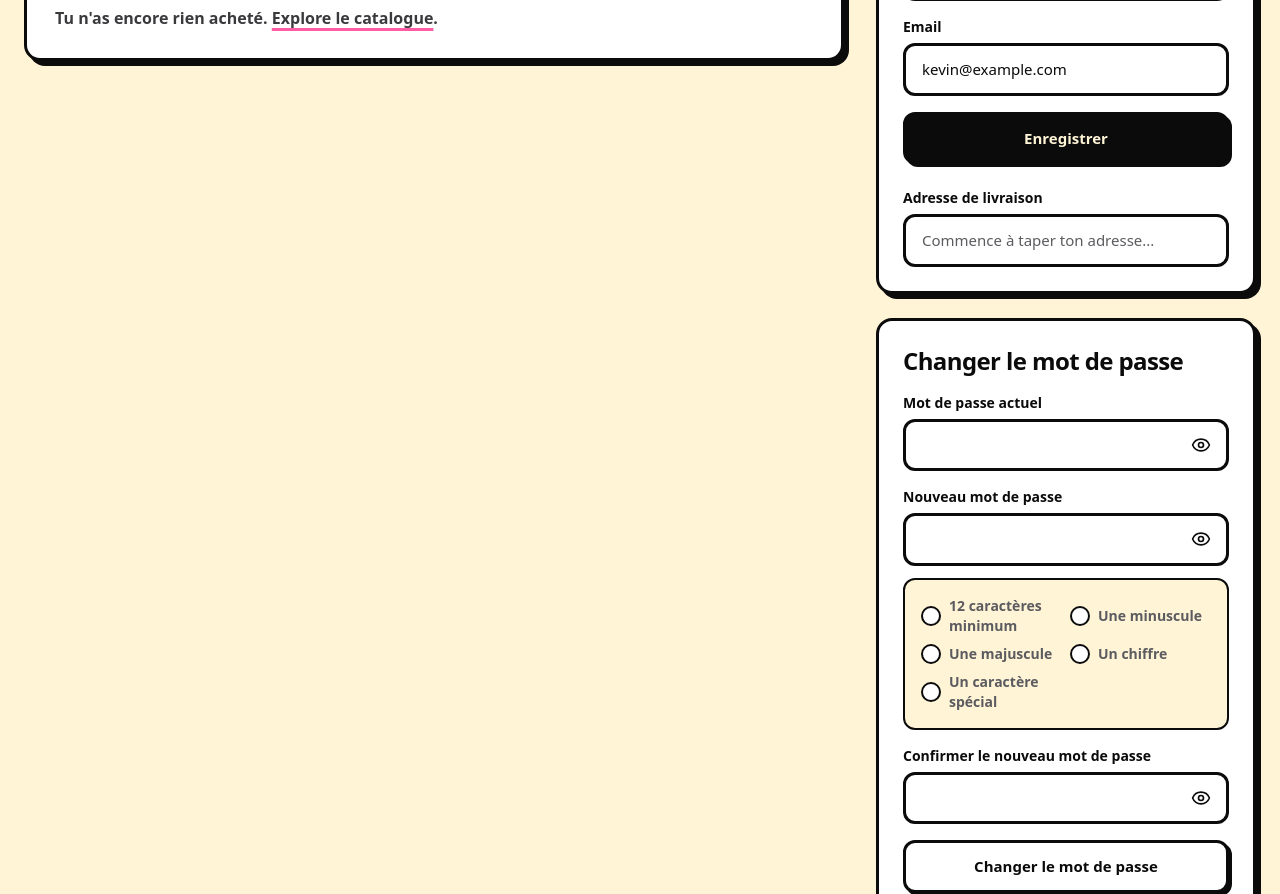
Scenario: Account › changes the password through the form
This screenshot has width=1280, height=894.
(page scrolled)
Type "Azerty-2026!x" into the password field labelled "Mot de passe actuel" at (1066, 445), box [903,418,1229,471]
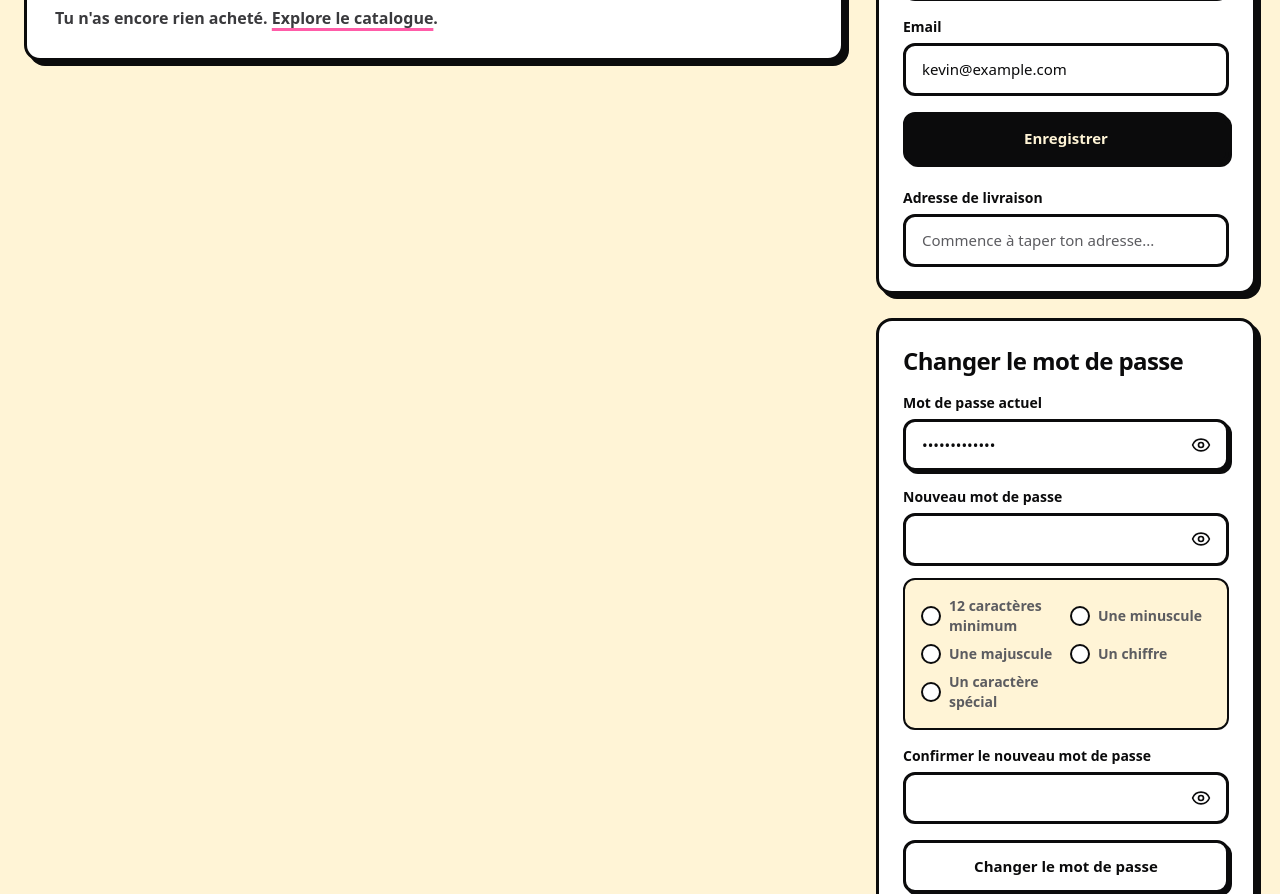
Type "NouveauMdp-456!" into the password field labelled "Nouveau mot de passe" at (1066, 539), box [903,513,1229,566]
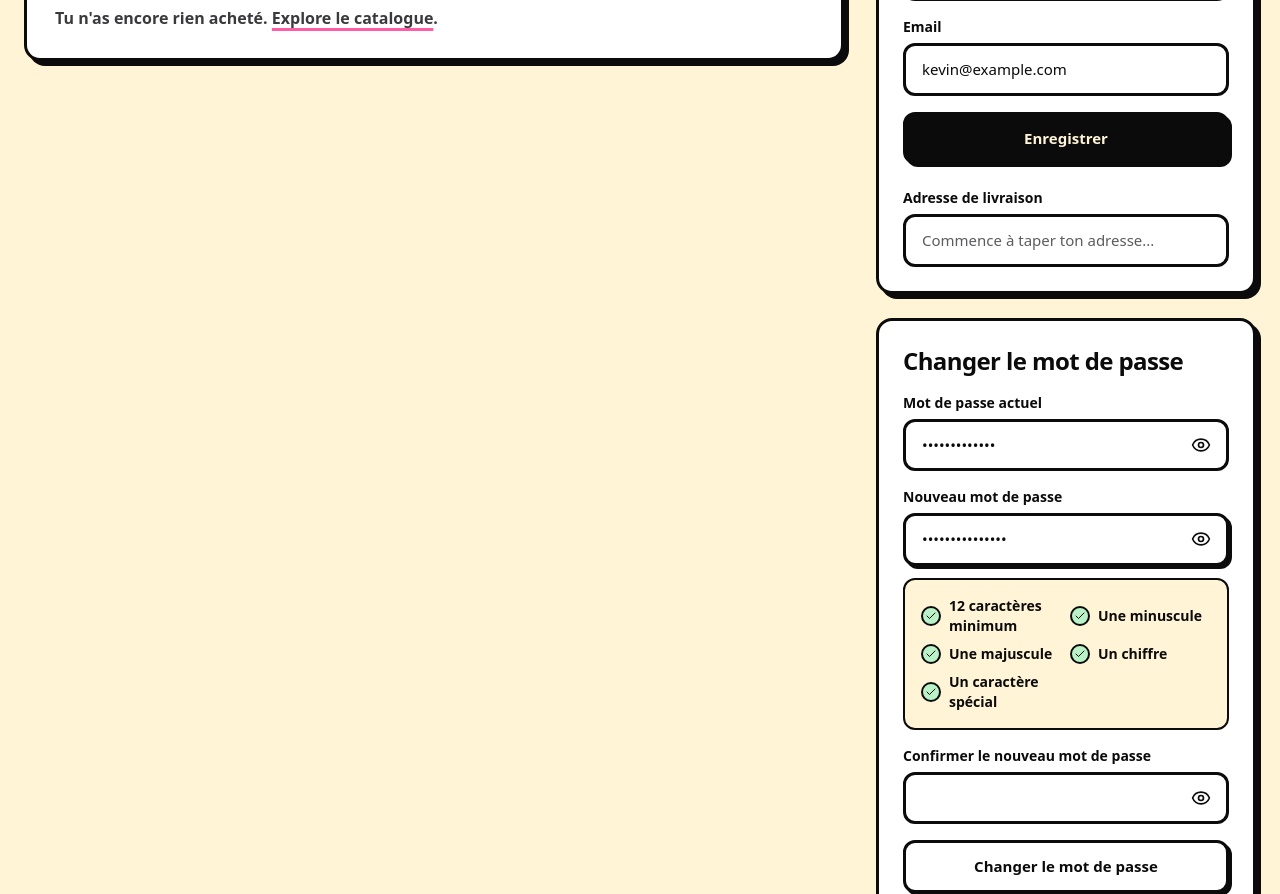
Type "NouveauMdp-456!" into the password field labelled "Confirmer le nouveau mot de passe" at (1066, 798), box [903,772,1229,824]
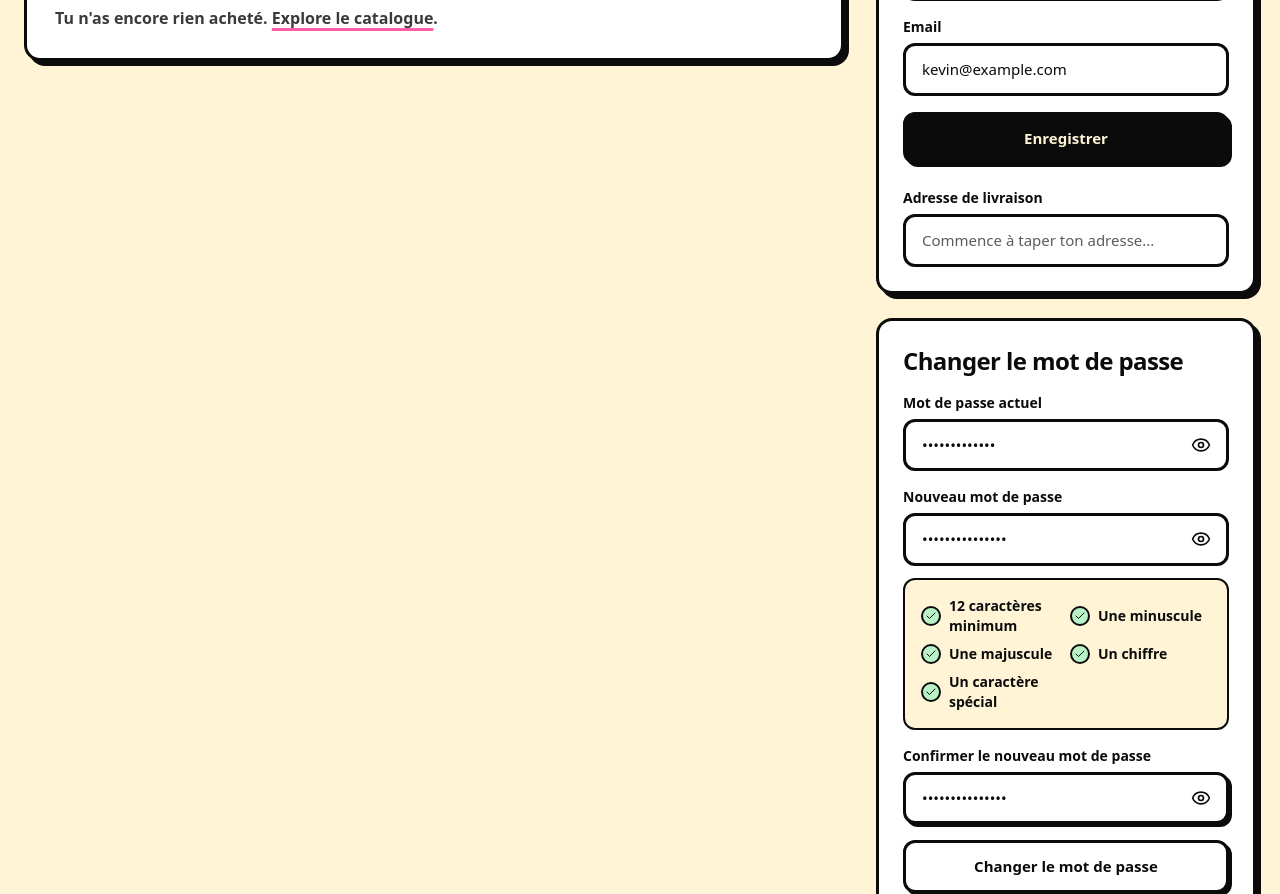
Click the button "Changer le mot de passe" at (1066, 866), box [903,840,1229,892]
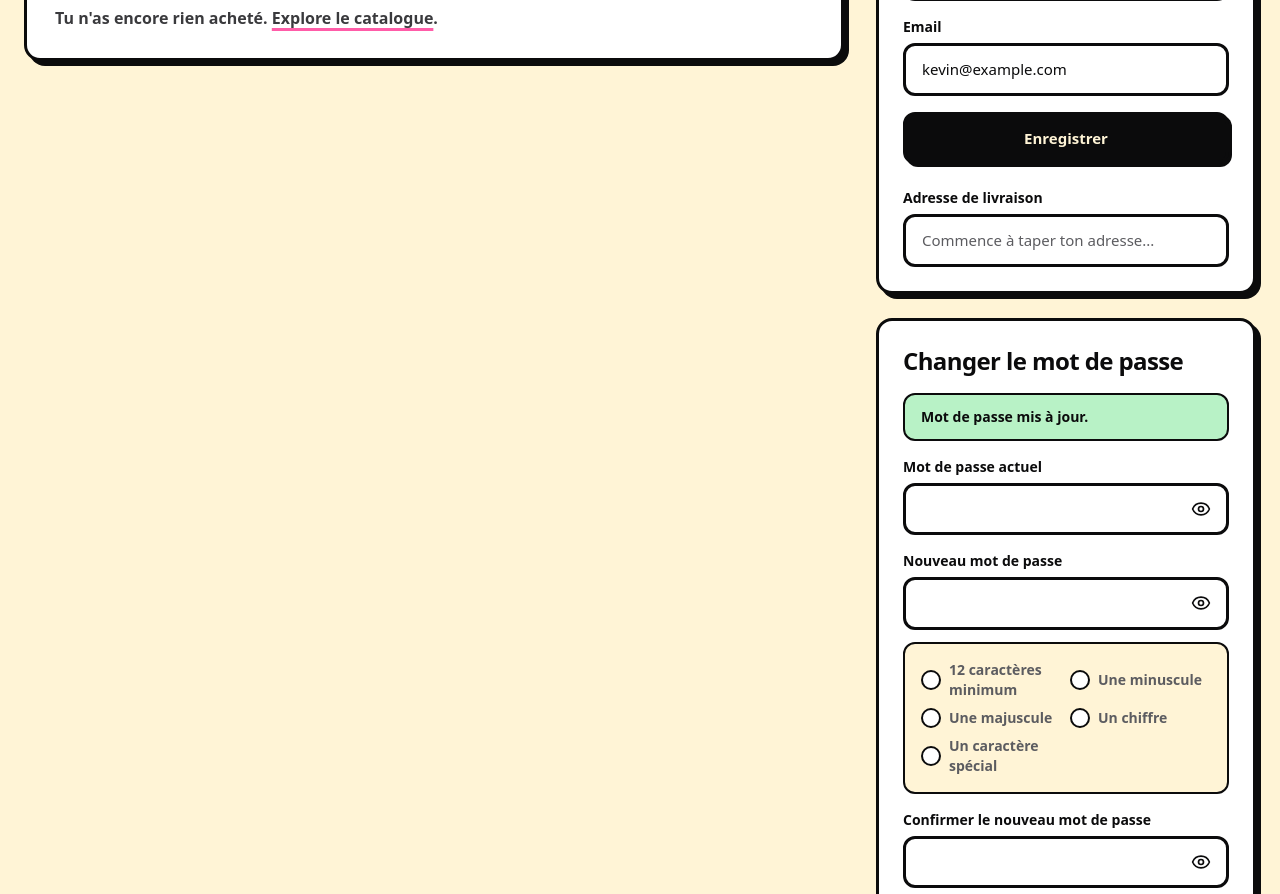
expect the text "Mot de passe mis à jour." is shown: met, box [903,392,1229,440]
